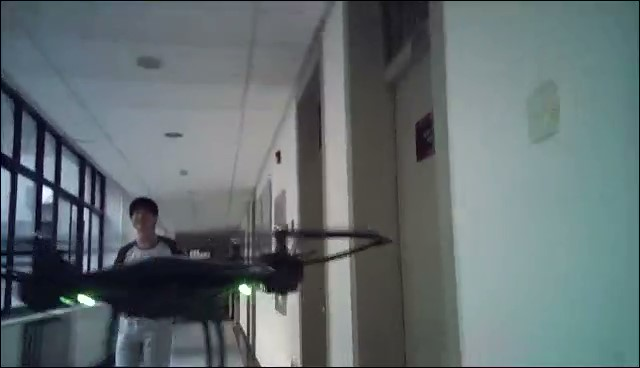drone: (1, 216, 392, 363)
person: (112, 195, 186, 368)
